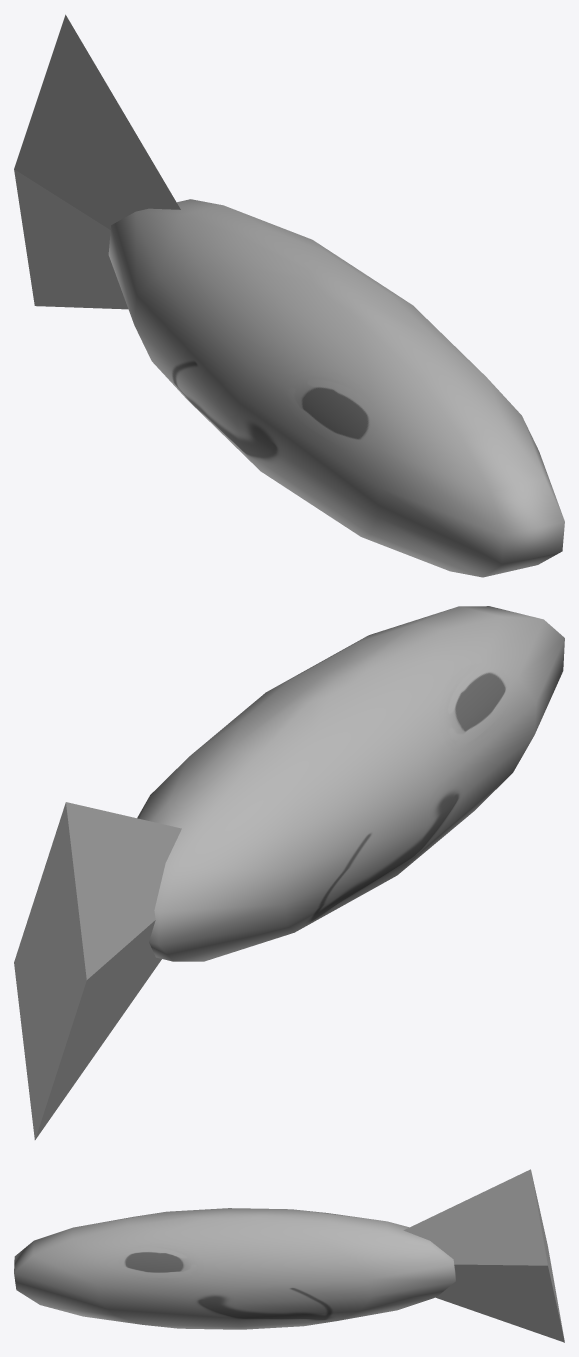
Rendered from Fish3.fbx.
3 renders of one model, top to bottom at view 1: azimuth 30°, elevation 25°; view 2: azimuth 150°, elevation 25°; view 3: azimuth 270°, elevation 25°, orthographic. The views are drawn at different scales.
Parts seen in each view (by area): view 1: Fish2; view 2: Fish2; view 3: Fish2.
Boxes of the visible parts, bbox=[...] form: Fish2: bbox=[14, 14, 564, 577]; Fish2: bbox=[14, 606, 564, 1139]; Fish2: bbox=[14, 1169, 564, 1342].
Bounding box in the file's own units: 140 × 215 × 618.
